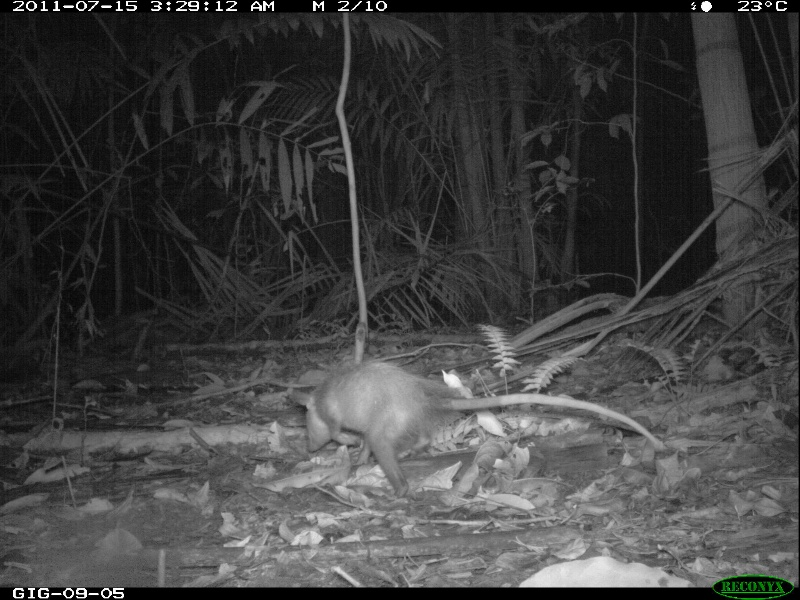opossum: (283, 358, 665, 504)
